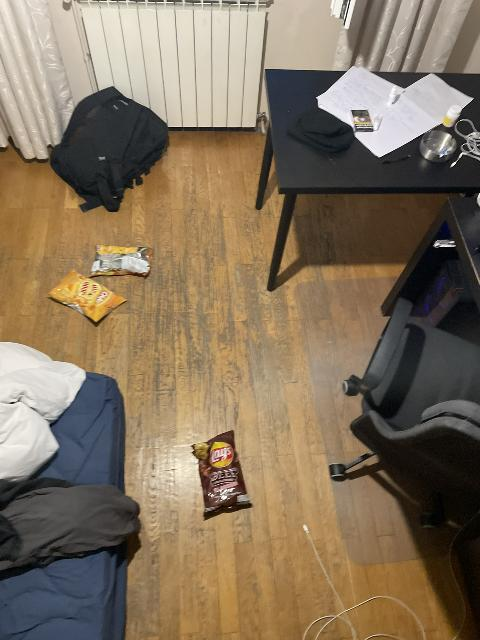Chio Cascaval 125g: (89, 244, 153, 278)
Chio Hula Hoops Cheese 70g: (46, 269, 129, 321)
Lays Beef Grilled Ribs 125g: (194, 430, 253, 516)
